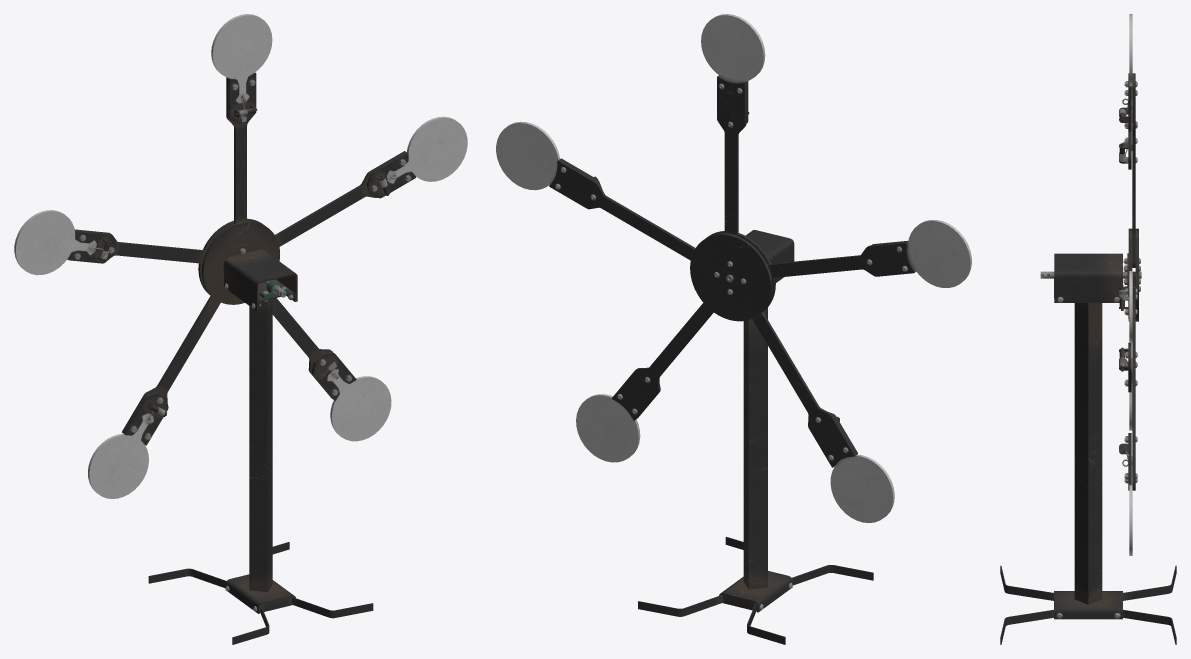
Rendered from texas_star.gltf.
3 renders of one model, left to right at view 1: azimuth 30°, elevation 25°; view 2: azimuth 150°, elevation 25°; view 3: azimuth 270°, elevation 25°, orthographic. The views are drawn at different scales.
Visible parts, largest first — view 1: Arm, Stand, Plate2, Plate1, Plate3, Plate5, Plate4; view 2: Arm, Stand, Plate1, Plate2, Plate3, Plate5, Plate4; view 3: Stand, Arm, Plate4, Plate1, Plate5.
Boxes of the visible parts, x1,y1,x2,y2 form: Arm: (67, 72, 416, 445); Stand: (148, 249, 373, 644); Plate2: (14, 210, 96, 275); Plate1: (211, 14, 272, 103); Plate3: (88, 413, 153, 498); Plate5: (387, 116, 467, 183); Plate4: (327, 369, 391, 441); Arm: (549, 75, 915, 467); Stand: (638, 230, 873, 644); Plate1: (701, 14, 765, 82); Plate2: (907, 220, 971, 287); Plate3: (830, 454, 894, 522); Plate5: (496, 121, 559, 190); Plate4: (576, 394, 640, 462); Stand: (1000, 253, 1176, 644); Arm: (1040, 73, 1141, 490); Plate4: (1129, 456, 1132, 555); Plate1: (1129, 14, 1132, 109); Plate5: (1129, 271, 1132, 342).
Size of the model in its own units: 1.54 by 1.84 by 0.4969.
Materials: 1 (1 with a texture image).
